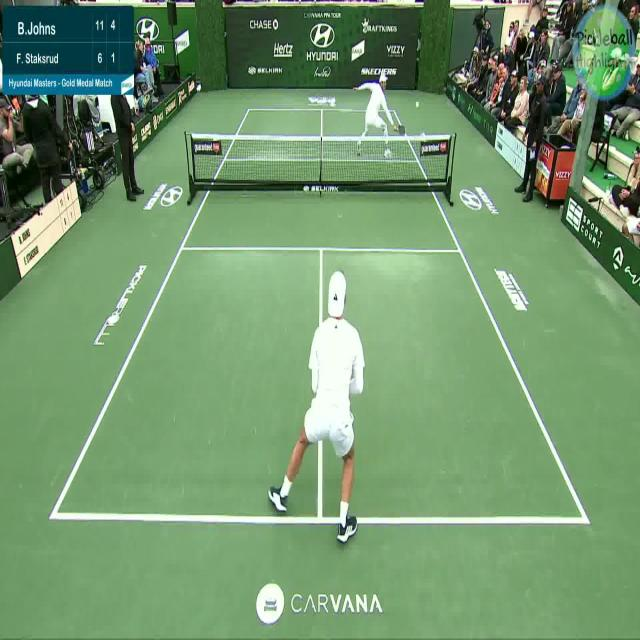Court: (50, 108, 590, 525)
ball: (412, 96, 423, 111)
